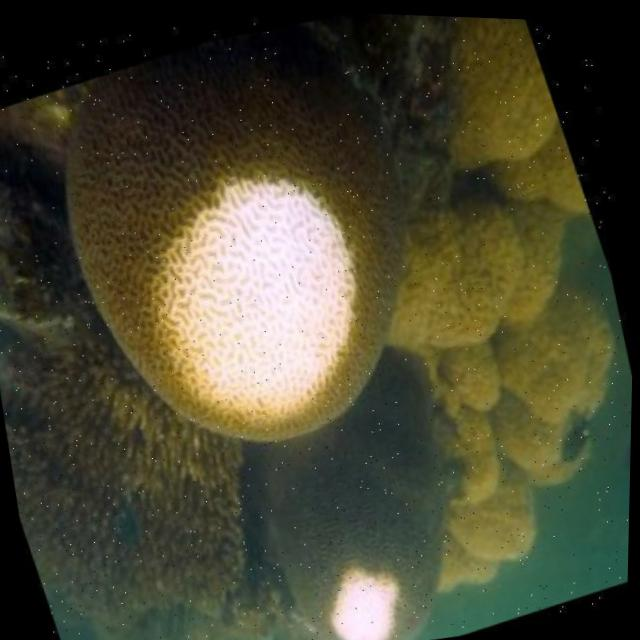Bleached Coral: (141, 160, 378, 438), (325, 562, 409, 640)
